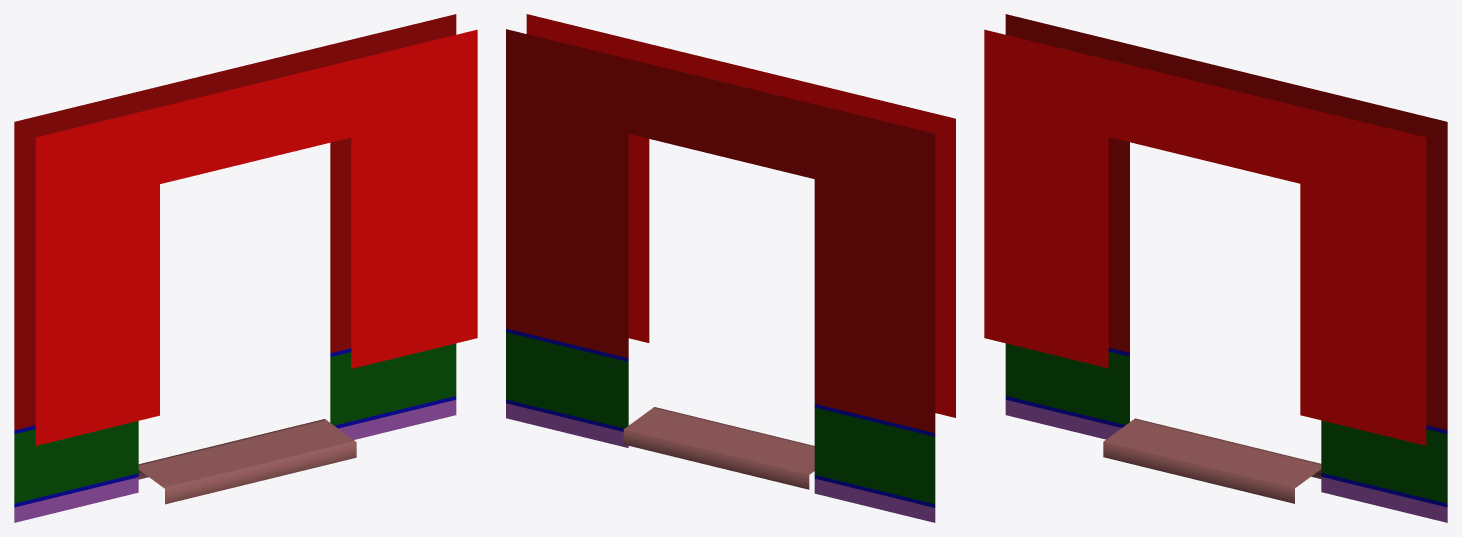
The model's file is SM_ExttoIntB.fbx.
3 renders of one model, left to right at view 1: azimuth 30°, elevation 25°; view 2: azimuth 150°, elevation 25°; view 3: azimuth 330°, elevation 25°, orthographic. The views are drawn at different scales.
Visible parts, largest first — view 1: SM_ExttoIntB; view 2: SM_ExttoIntB; view 3: SM_ExttoIntB.
Part boxes in pixels (x1,y1,x2,y2): SM_ExttoIntB: (14, 14, 477, 522); SM_ExttoIntB: (506, 14, 955, 522); SM_ExttoIntB: (984, 14, 1447, 522).
Size of the model in its own units: 600 by 520 by 75.
